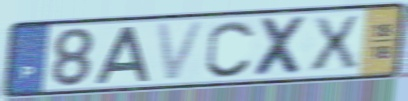8: (51, 26, 96, 88)
A: (92, 25, 151, 86)
C: (203, 19, 258, 80)
V: (153, 18, 209, 85)
X: (251, 14, 311, 79), (308, 13, 361, 74)
